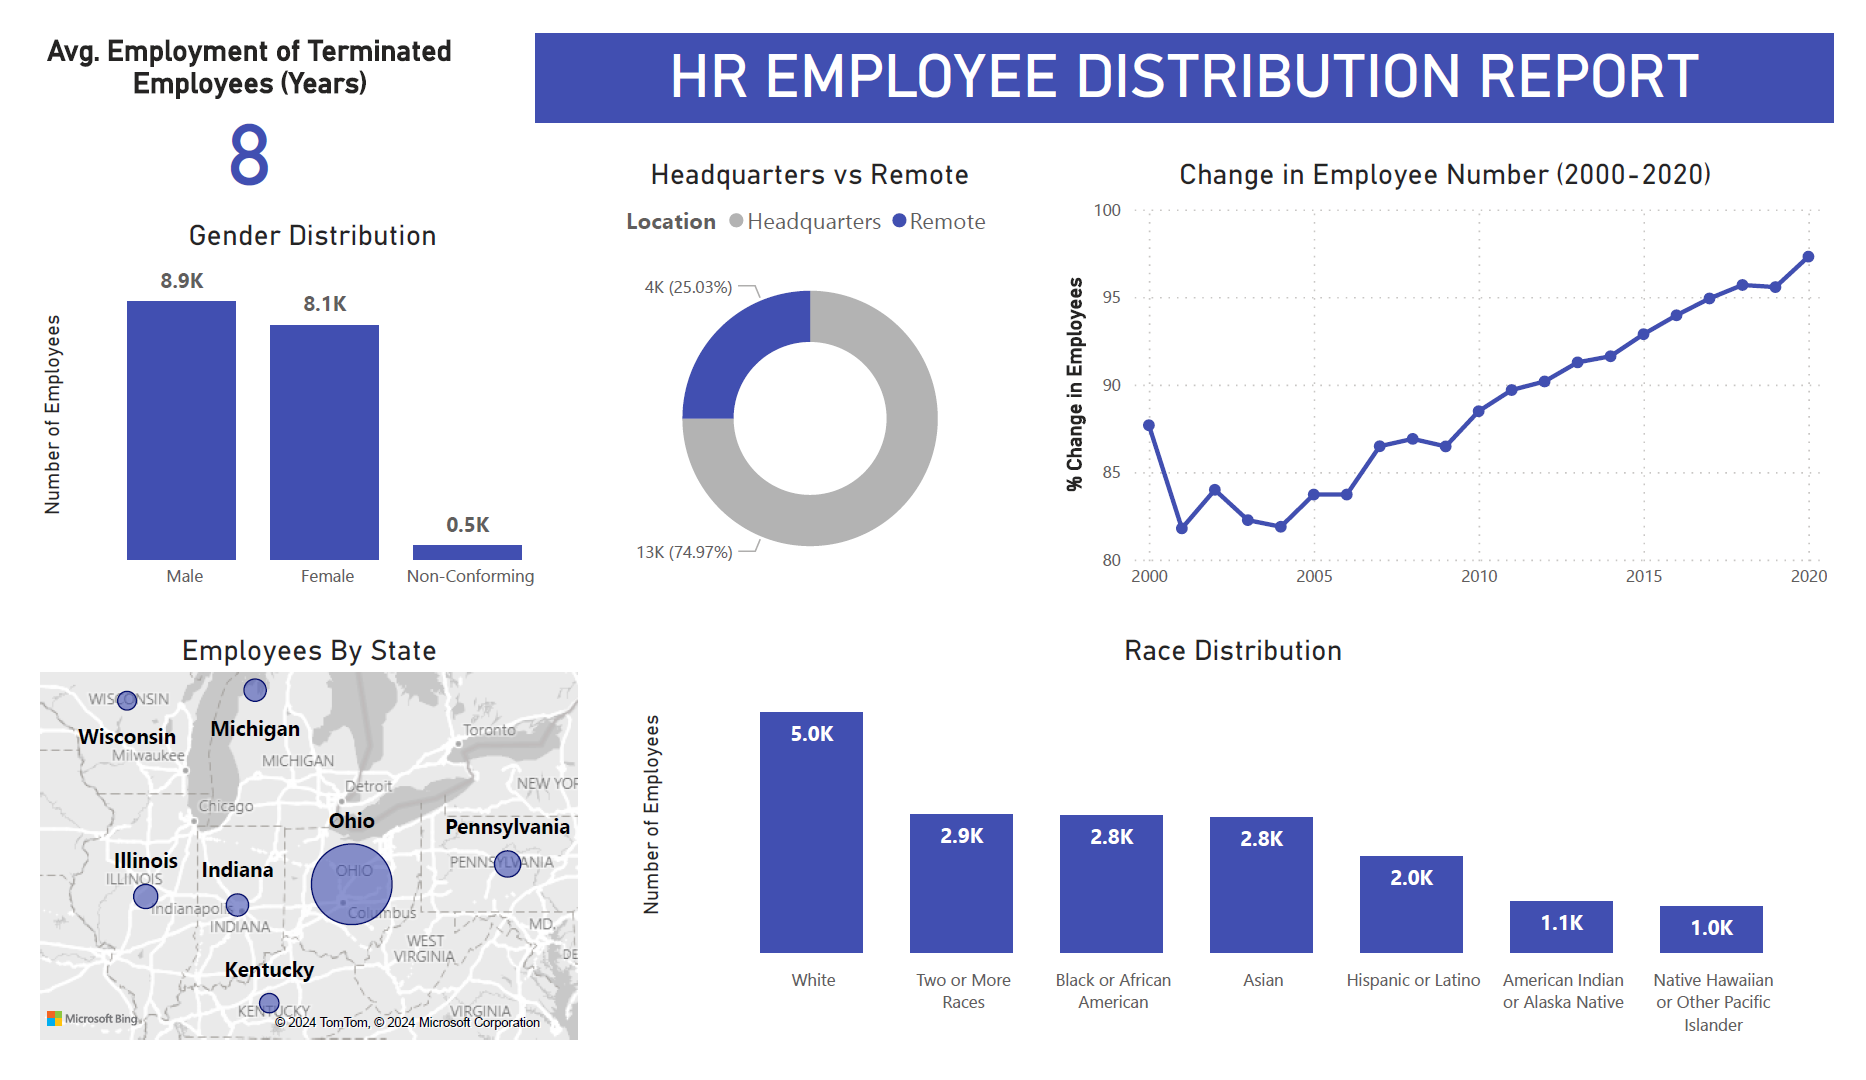

The dashboard page shown, as its layout file describes it:
{"tool":"powerbi","page":{"name":"Page 1","canvas":[1280,720],"ordinal":0},"visuals":[{"type":"clusteredColumnChart","title":"Race Distribution","fields":{"Y":["Sum(race.count)"],"Category":["race.race"]},"box":[426.3,426.3,853.4,293.7],"z":0},{"type":"textbox","box":[357,0,923,63],"z":1000},{"type":"card","title":"Avg. Employment of Terminated Employees (Years)","fields":{"Values":["Sum(avg_length_employment.avg_length_employment)"]},"box":[0,0,307,114],"z":2000},{"type":"columnChart","title":"Gender Distribution","fields":{"Category":["gender.gender"],"Y":["Sum(gender.count)"]},"box":[0,130.7,396.7,273.1],"z":3000},{"type":"donutChart","title":"Headquarters vs Remote","fields":{"Category":["location.location"],"Y":["Sum(location.count)"]},"box":[377,87.8,350.1,316.1],"z":4000},{"type":"lineChart","title":"Change in Employee Number (2000-2020)","fields":{"Category":["employee_change.year"],"Y":["Sum(employee_change.net_change_percent)"]},"box":[727.2,87.8,552.5,316.1],"z":5000},{"type":"map","title":"Employees By State","fields":{"Size":["Sum(state.count)"],"Category":["state.location_state"]},"box":[0,426.3,392.2,293.7],"z":6000}]}

Visuals, with their boxes in screenshot pixels (x1, y1, x2, y2), scaled from the page's 1280x720 canvas onto the 1866x1080 screenshot:
"Race Distribution" clusteredColumnChart: BBox(621, 639, 1865, 1079)
textbox: BBox(520, 0, 1865, 94)
"Avg. Employment of Terminated Employees (Years)" card: BBox(0, 0, 448, 171)
"Gender Distribution" columnChart: BBox(0, 196, 578, 606)
"Headquarters vs Remote" donutChart: BBox(550, 132, 1060, 606)
"Change in Employee Number (2000-2020)" lineChart: BBox(1060, 132, 1865, 606)
"Employees By State" map: BBox(0, 639, 572, 1079)
